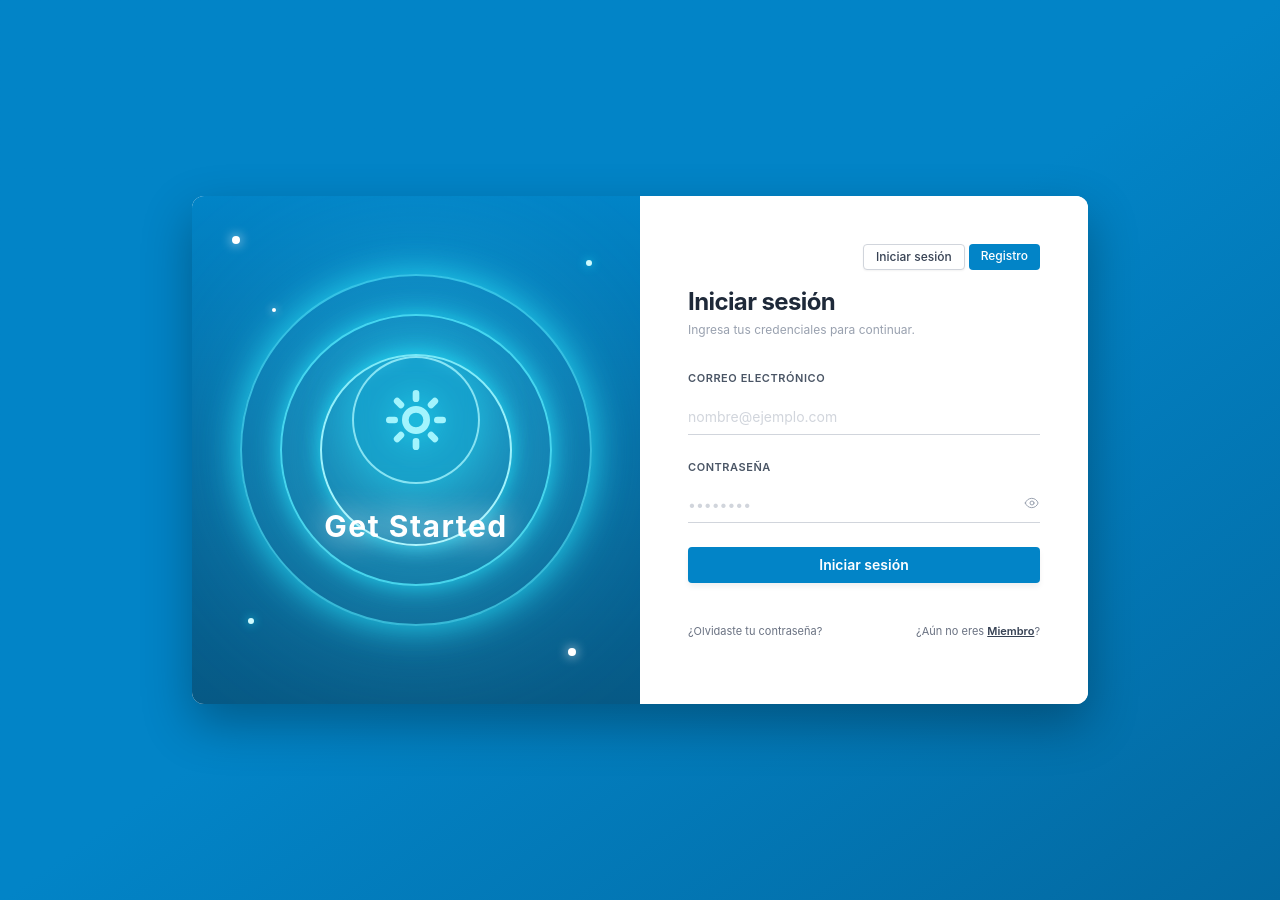
Test: LoginPage › shows validation errors when the form is submitted empty
Click the button "Iniciar sesión": click(864, 565) [688, 547, 1040, 583]
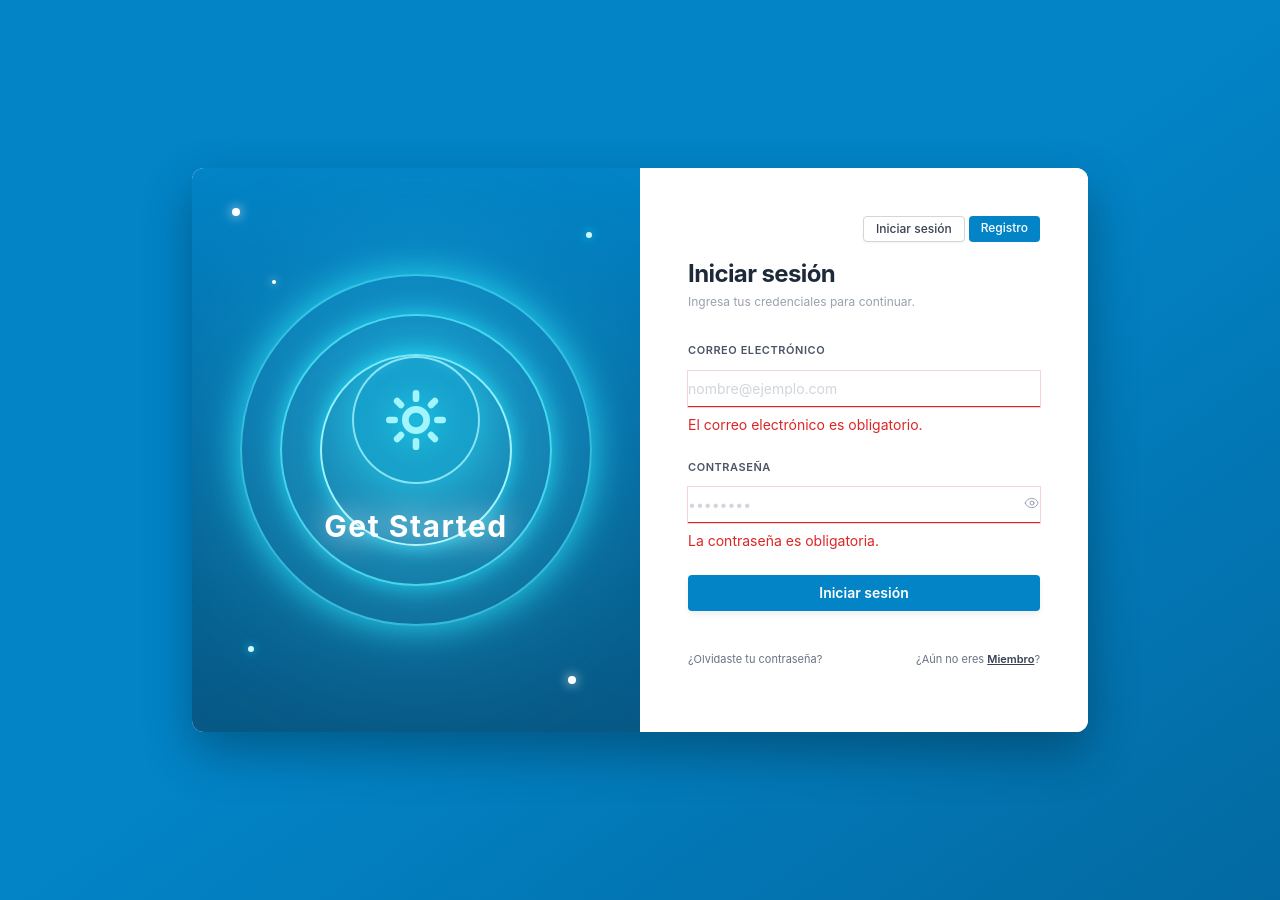
Expected: the text "El correo electrónico es obligatorio." is shown, [688, 416, 923, 433]
Expected: the text "La contraseña es obligatoria." is shown, [688, 532, 879, 549]
